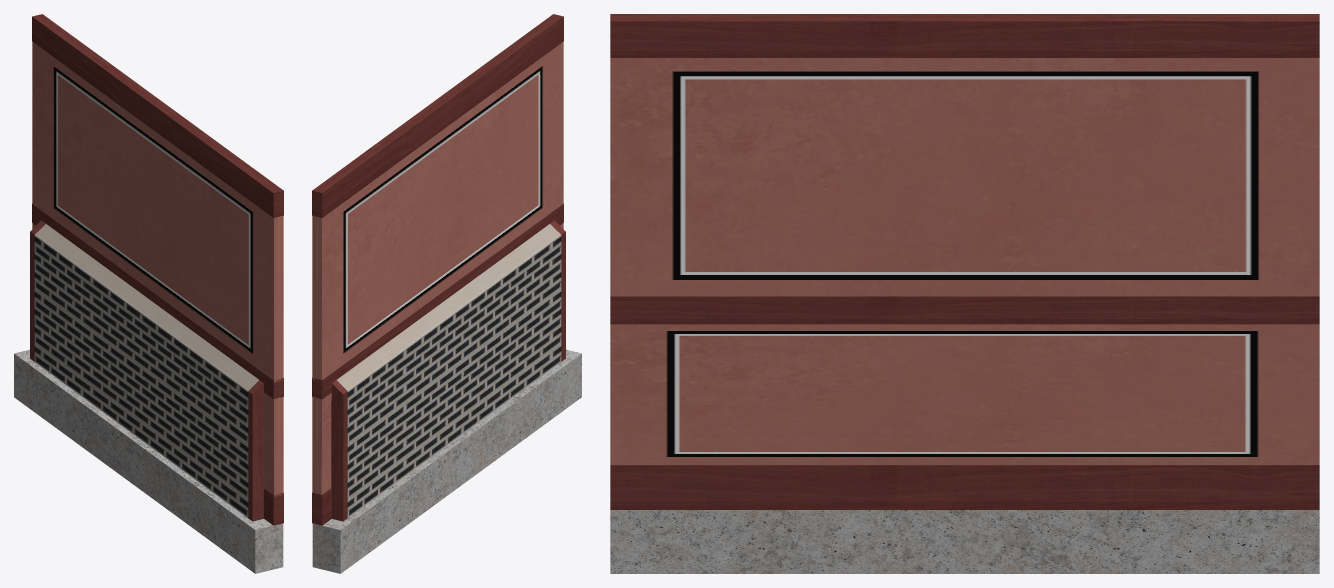
Rendered from SM_Wall07H.fbx.
3 views of the same model, side by side, from view 1: azimuth 30°, elevation 25°; view 2: azimuth 150°, elevation 25°; view 3: azimuth 270°, elevation 25° (orthographic). The views are drawn at different scales.
Visible parts, largest first — view 1: SM_Wall07H; view 2: SM_Wall07H; view 3: SM_Wall07H.
Part boxes in pixels (bbox=[...]): SM_Wall07H: bbox=[14, 14, 283, 573]; SM_Wall07H: bbox=[312, 14, 581, 573]; SM_Wall07H: bbox=[610, 14, 1319, 573].
Bounding box in the file's own units: 24.59 × 360 × 310.
